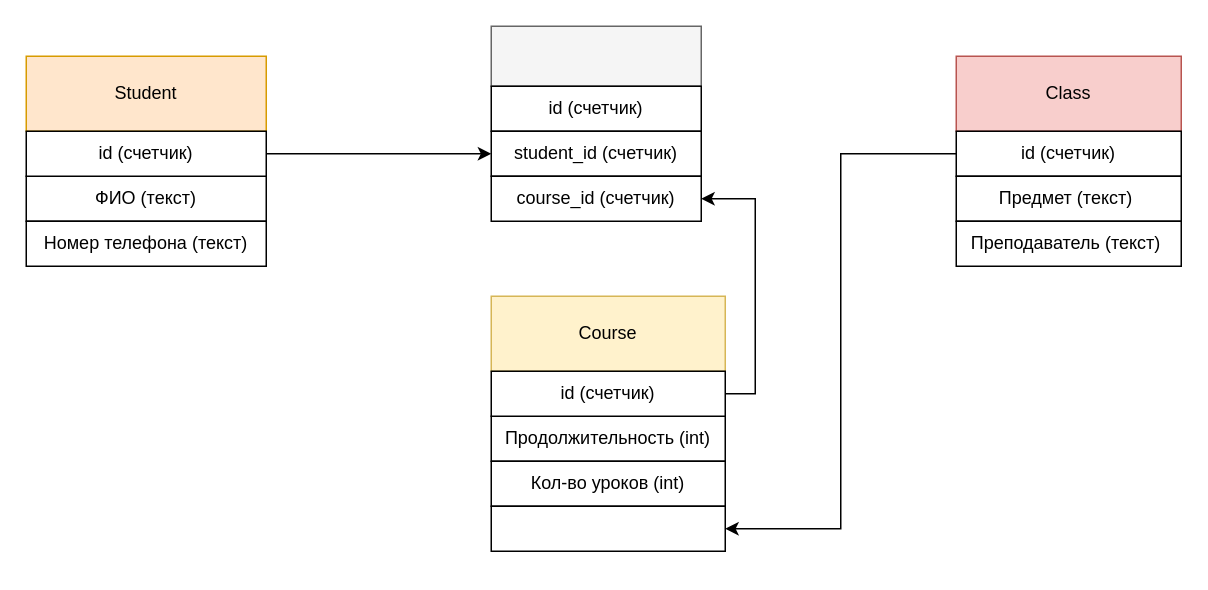
This 1208x590 diagram has some shape labels left out. Each missing label, with the centre of its shape:
"class_id (счетчик)" goes at (607,528).
"Student-Course" goes at (595,55).
